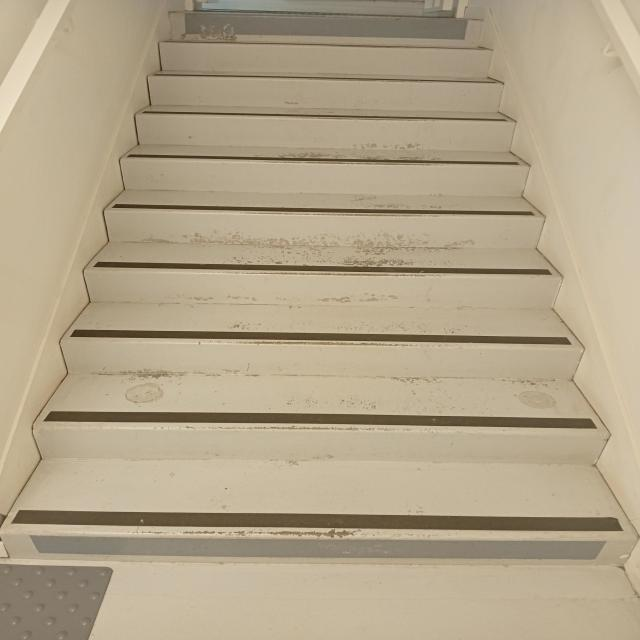Stairs: (6, 147, 630, 616)
